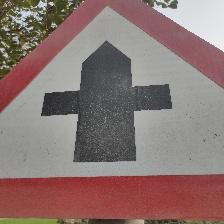Crossroad: (1, 0, 223, 219)
